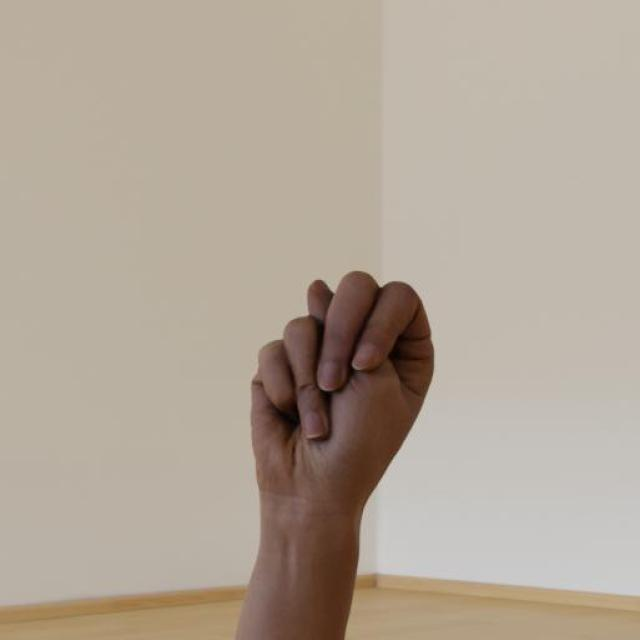N: (247, 268, 439, 506)
